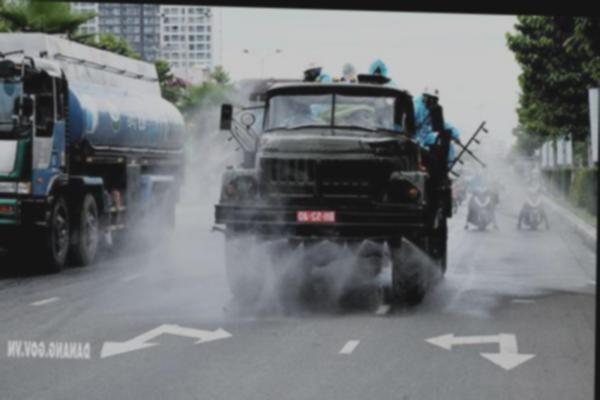License_Plate: (298, 208, 338, 226)
